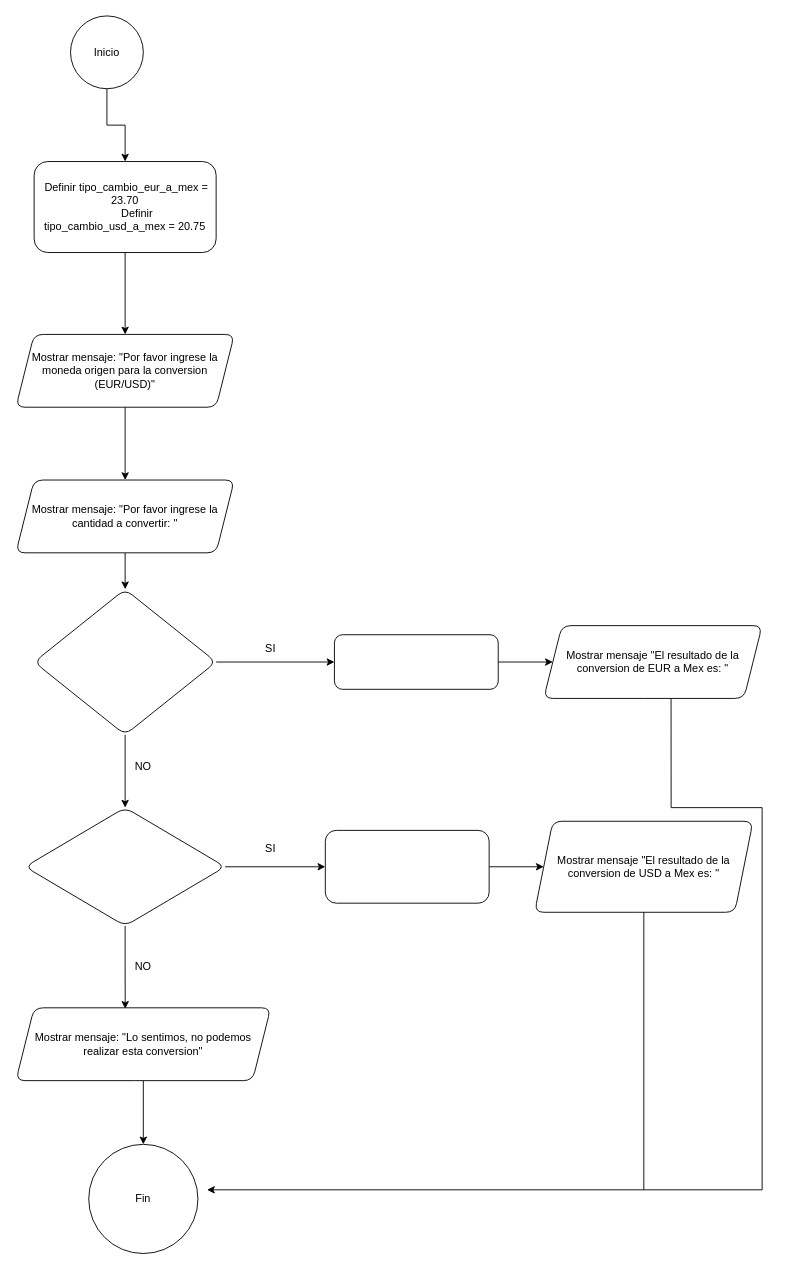
Some shapes in this 785 by 1269 pixel diagram are drawn without their labels. The centre of each missing label's shape, as x and y in pixels:
Calcular resultado = monto_a_convertir * tipo_cambio_eur_a_mex: (416,661)
Calcular resultado = monto_a_convertir * tipo_cambio_usd_a_mex: (406,866)
tipo_conversion == "EUR": (124,661)
tipo_conversion == "USD": (124,866)
